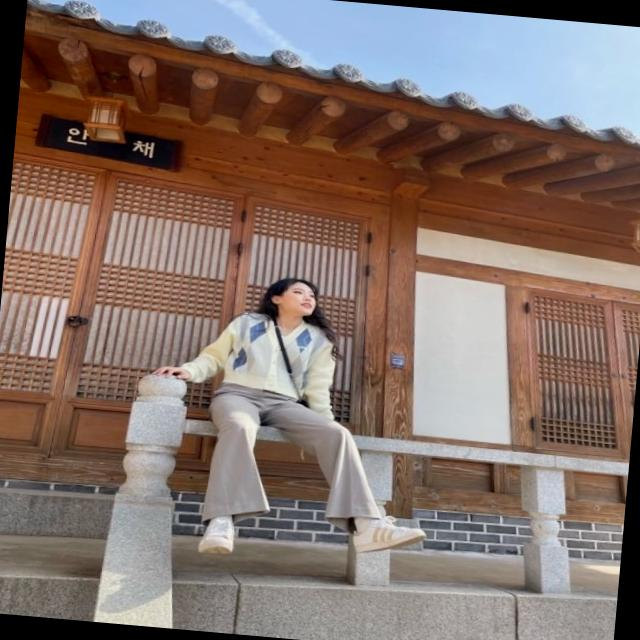cardigan: (178, 303, 342, 421)
slacks: (194, 381, 400, 542)
